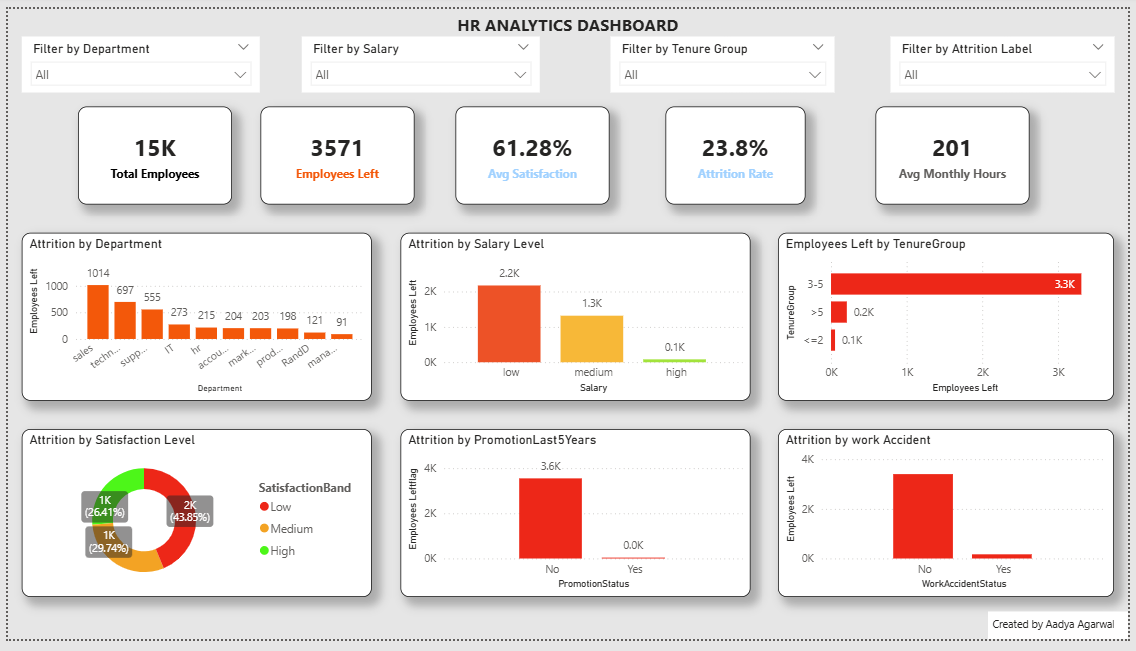

This screenshot's page, from the dashboard's own definition file:
{"tool":"powerbi","page":{"name":"Page 1","canvas":[1280,720],"ordinal":0},"visuals":[{"type":"textbox","box":[400,0,480,48],"z":0},{"type":"card","fields":{"Values":["employees_clean.Attrition Rate"]},"box":[752,112,160,112],"z":1},{"type":"card","fields":{"Values":["employees_clean.Avg Satisfaction"]},"box":[512,112,176,112],"z":2},{"type":"card","fields":{"Values":["employees_clean.Total Employees"]},"box":[80,112,176,112],"z":3},{"type":"card","fields":{"Values":["employees_clean.Employees Leftflag"]},"box":[288,112,176,112],"z":4},{"type":"card","fields":{"Values":["employees_clean.Avg Monthly Hours"]},"box":[992,112,176,112],"z":5},{"type":"clusteredColumnChart","title":"Attrition by Department ","fields":{"Y":["employees_clean.Employees Leftflag"],"Category":["employees_clean.Department"]},"box":[16,256,400,192],"z":6},{"type":"columnChart","title":"Attrition by Salary Level","fields":{"Category":["employees_clean.Salary"],"Y":["employees_clean.Employees Leftflag"]},"box":[448,256,400,192],"z":7},{"type":"barChart","fields":{"Category":["employees_clean.TenureGroup"],"Y":["employees_clean.Employees Leftflag"]},"box":[880,256,384,192],"z":8},{"type":"donutChart","title":"Attrition by Satisfaction Level","fields":{"Category":["employees_clean.SatisfactionBand"],"Y":["employees_clean.Employees Leftflag"]},"box":[16,480,400,192],"z":9},{"type":"columnChart","title":"Attrition by PromotionLast5Years","fields":{"Y":["employees_clean.Employees Leftflag"],"Category":["employees_clean.PromotionStatus"]},"box":[448,480,400,192],"z":10},{"type":"columnChart","title":"Attrition by work Accident","fields":{"Category":["employees_clean.WorkAccidentStatus"],"Y":["employees_clean.Employees Leftflag"]},"box":[880,480,384,192],"z":11},{"type":"slicer","fields":{"Values":["employees_clean.Department"]},"box":[16,32,272,64],"z":12},{"type":"slicer","fields":{"Values":["employees_clean.Salary"]},"box":[336,32,272,64],"z":13},{"type":"slicer","fields":{"Values":["employees_clean.TenureGroup"]},"box":[688,32,256,64],"z":14},{"type":"slicer","fields":{"Values":["employees_clean.AttritionLabel"]},"box":[1008,32,256,64],"z":15},{"type":"textbox","box":[1120,688,160,32],"z":16}]}

Visuals, with their boxes in screenshot pixels (x1, y1, x2, y2), scaled from the page's 1280x720 canvas onto the 1136x651 screenshot:
textbox: [355,0,781,43]
card - employees_clean.Attrition Rate: [667,101,809,203]
card - employees_clean.Avg Satisfaction: [454,101,611,203]
card - employees_clean.Total Employees: [71,101,227,203]
card - employees_clean.Employees Leftflag: [256,101,412,203]
card - employees_clean.Avg Monthly Hours: [880,101,1037,203]
"Attrition by Department " clusteredColumnChart: [14,231,369,405]
"Attrition by Salary Level" columnChart: [398,231,753,405]
barChart - employees_clean.TenureGroup x employees_clean.Employees Leftflag: [781,231,1122,405]
"Attrition by Satisfaction Level" donutChart: [14,434,369,608]
"Attrition by PromotionLast5Years" columnChart: [398,434,753,608]
"Attrition by work Accident" columnChart: [781,434,1122,608]
slicer - employees_clean.Department: [14,29,256,87]
slicer - employees_clean.Salary: [298,29,540,87]
slicer - employees_clean.TenureGroup: [611,29,838,87]
slicer - employees_clean.AttritionLabel: [895,29,1122,87]
textbox: [994,622,1135,650]
